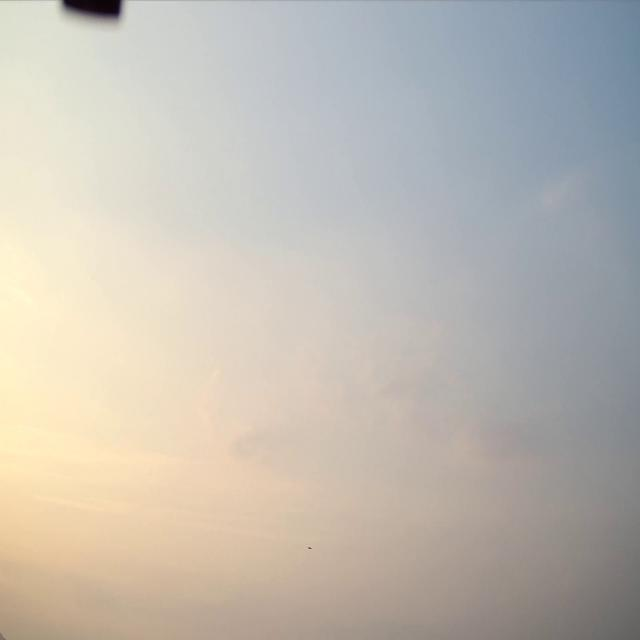drone: (308, 545, 313, 550)
